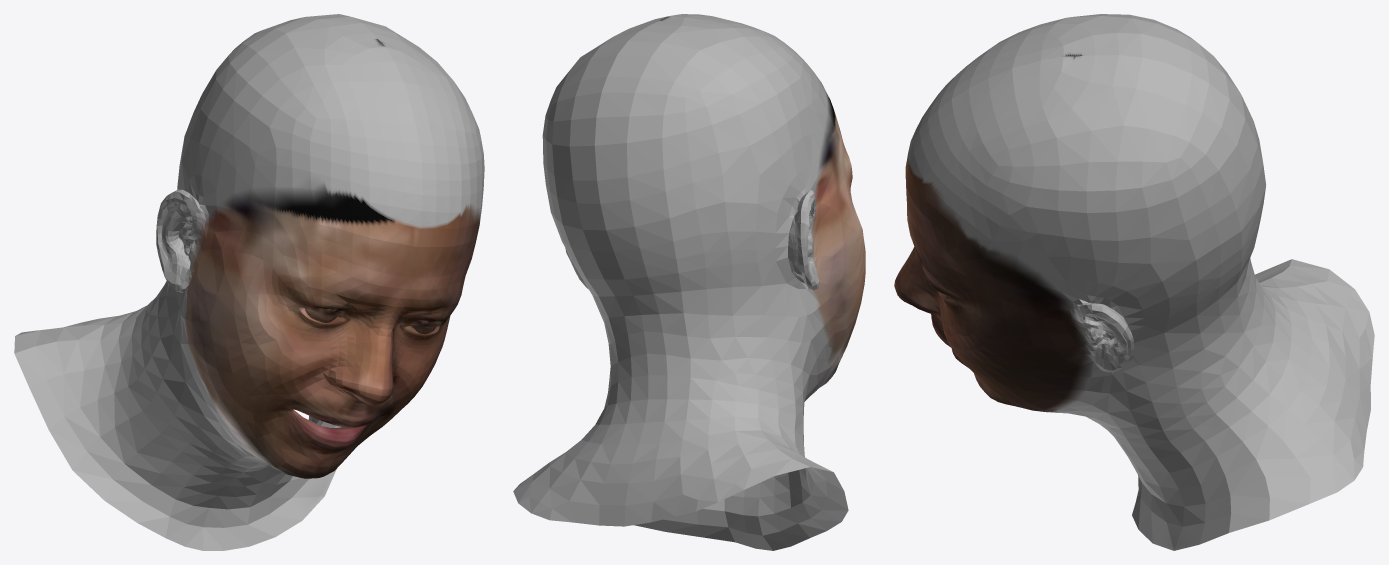
Rendered from id08456-SEvpX9LhEP4-000957_inputs_inputs.obj.
3 views of the same model, side by side, from view 1: azimuth 30°, elevation 25°; view 2: azimuth 150°, elevation 25°; view 3: azimuth 270°, elevation 25° (orthographic). The views are drawn at different scales.
Size of the model in its own units: 0.2327 by 0.3163 by 0.2656.
Materials: 1 (1 with a texture image).
